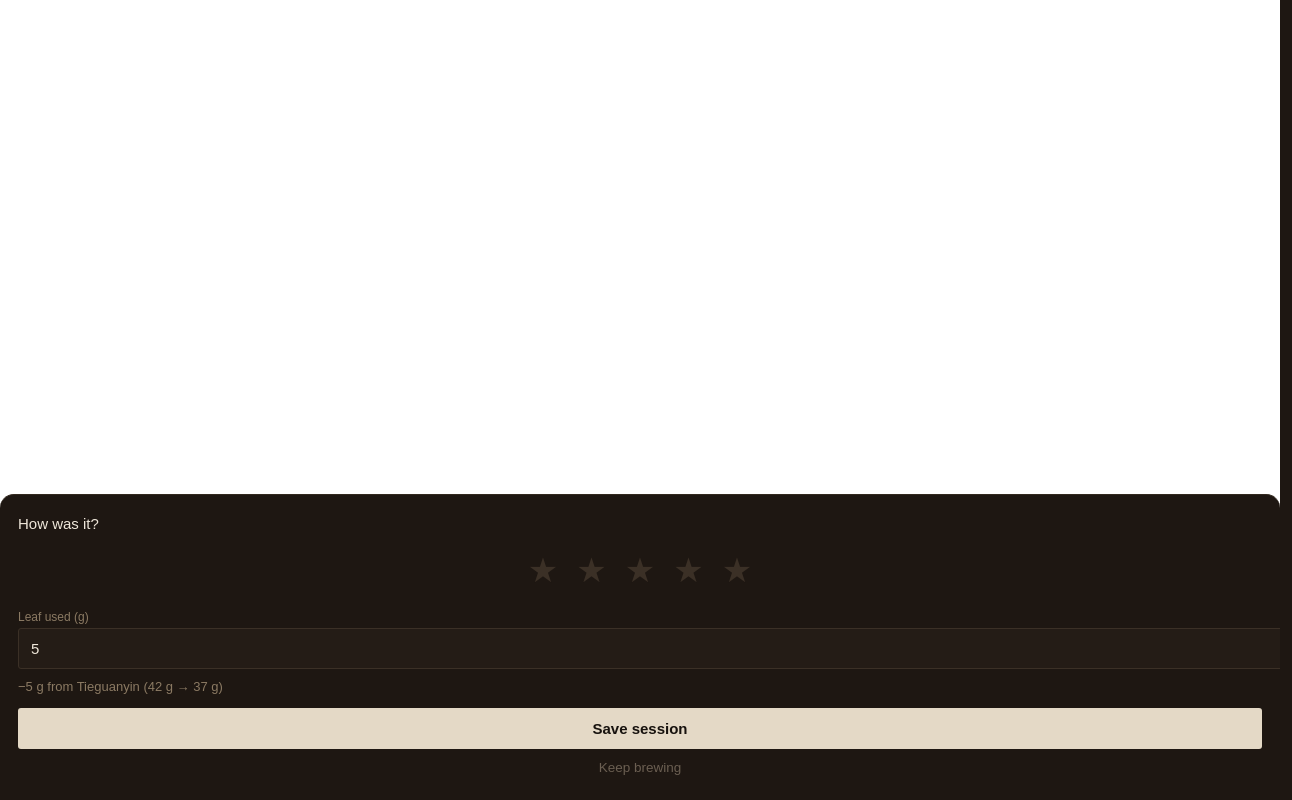
Test: FinishSheet › says grams stay put when no leaf is recorded
Clear the field with test id "finish-grams" at point(649, 648), box [18,628,1280,669]
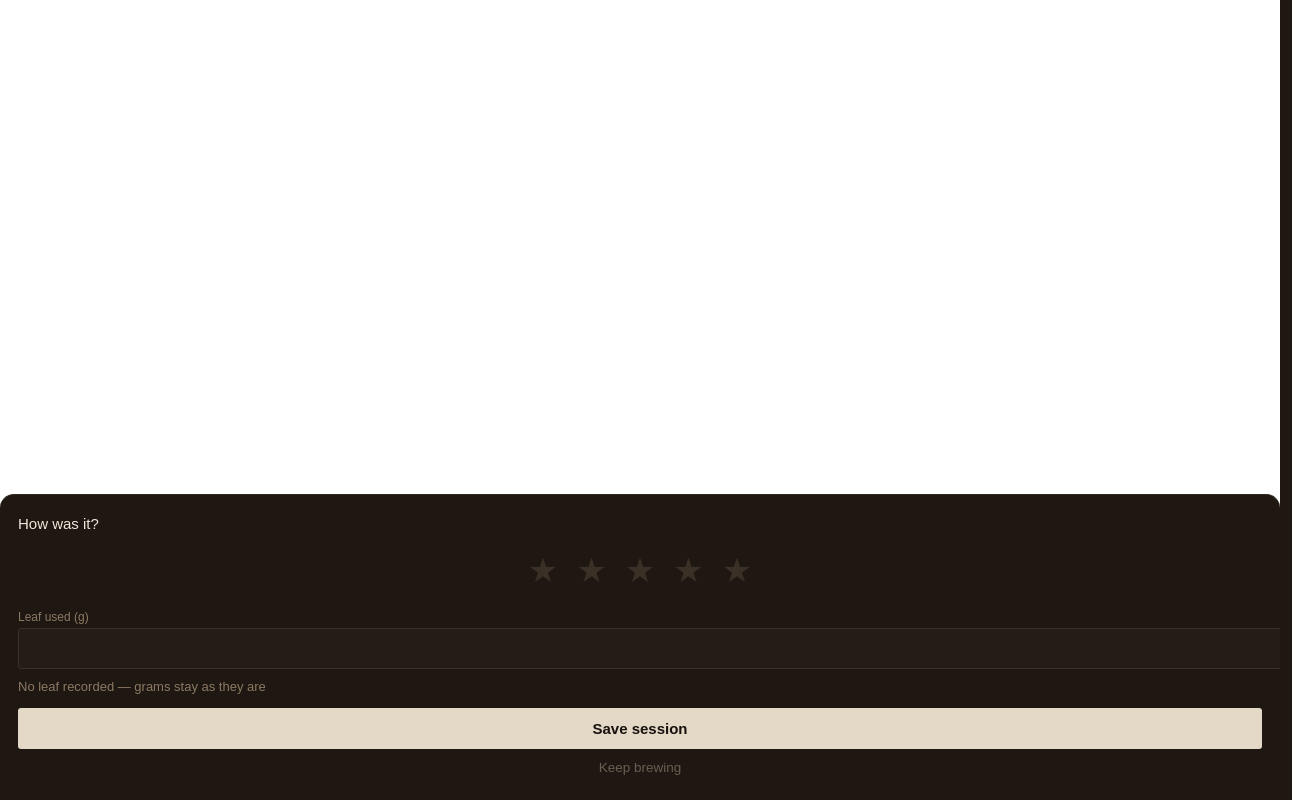
Now the text with test id "finish-preview" shows "stay as they are", box [18,679,266,694]
